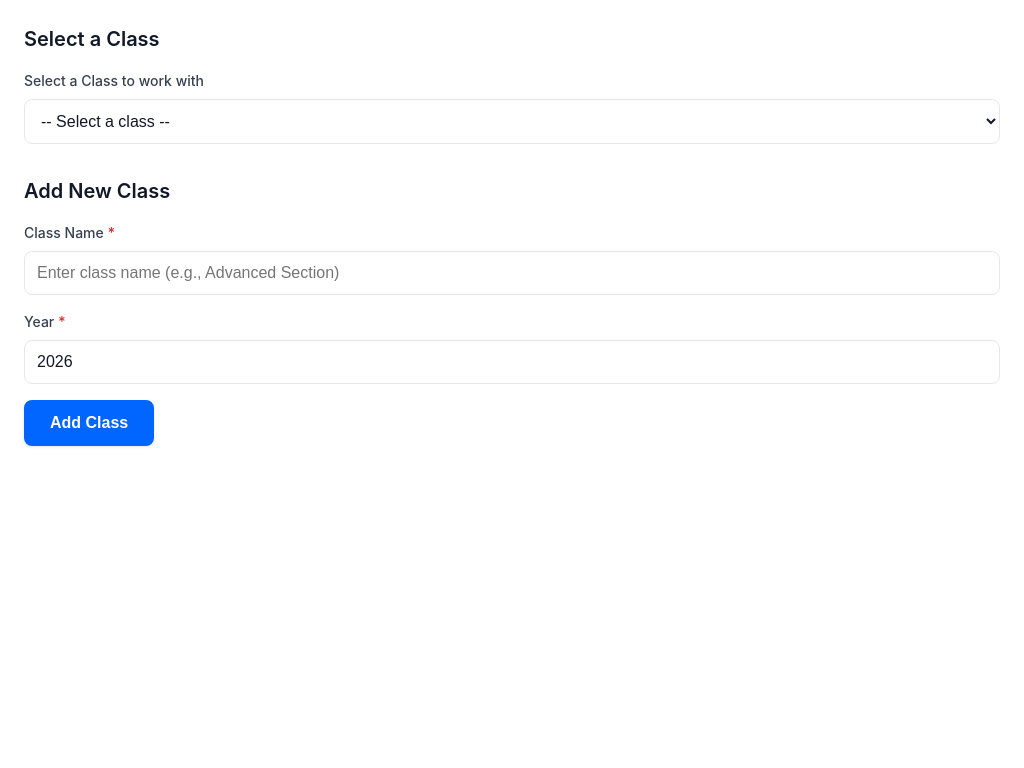
ClassManagementModal › Delete Class › should show cascading delete warning when class has final comments (AC5)
// Select a class
Select "Advanced Section (2024)" in the dropdown labelled "Select a Class to work with": (512, 122) [24,99,1000,144]
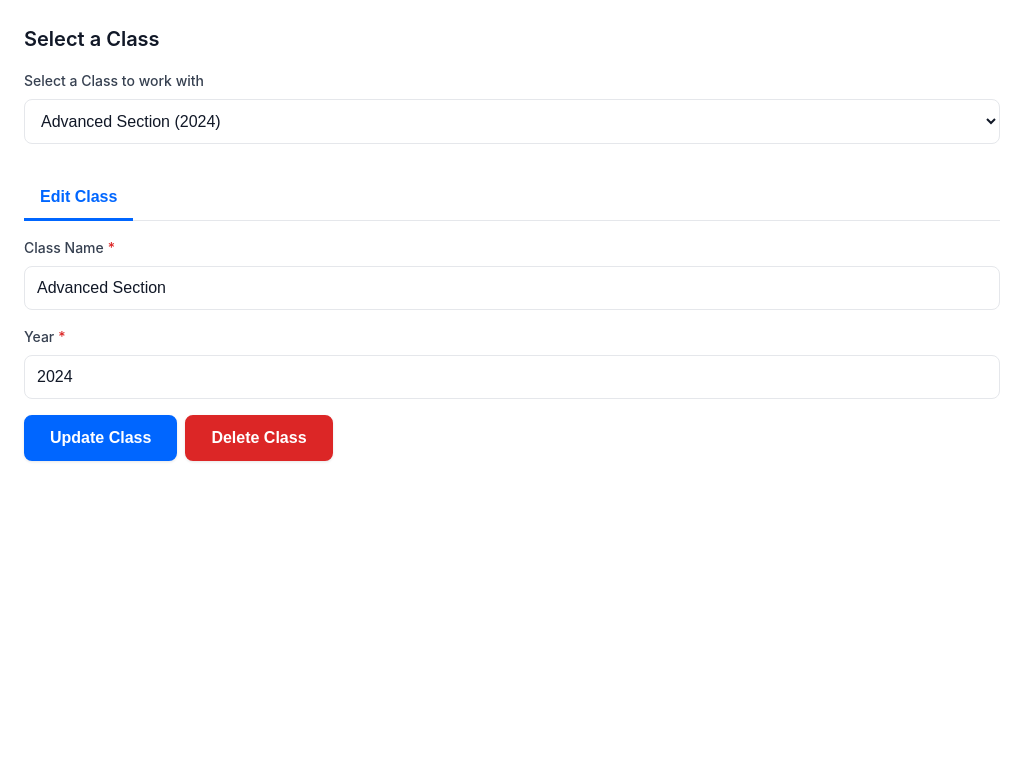
// Click delete button and wait for async check to complete
Click the button "Delete Class": (259, 438) [185,415,333,461]
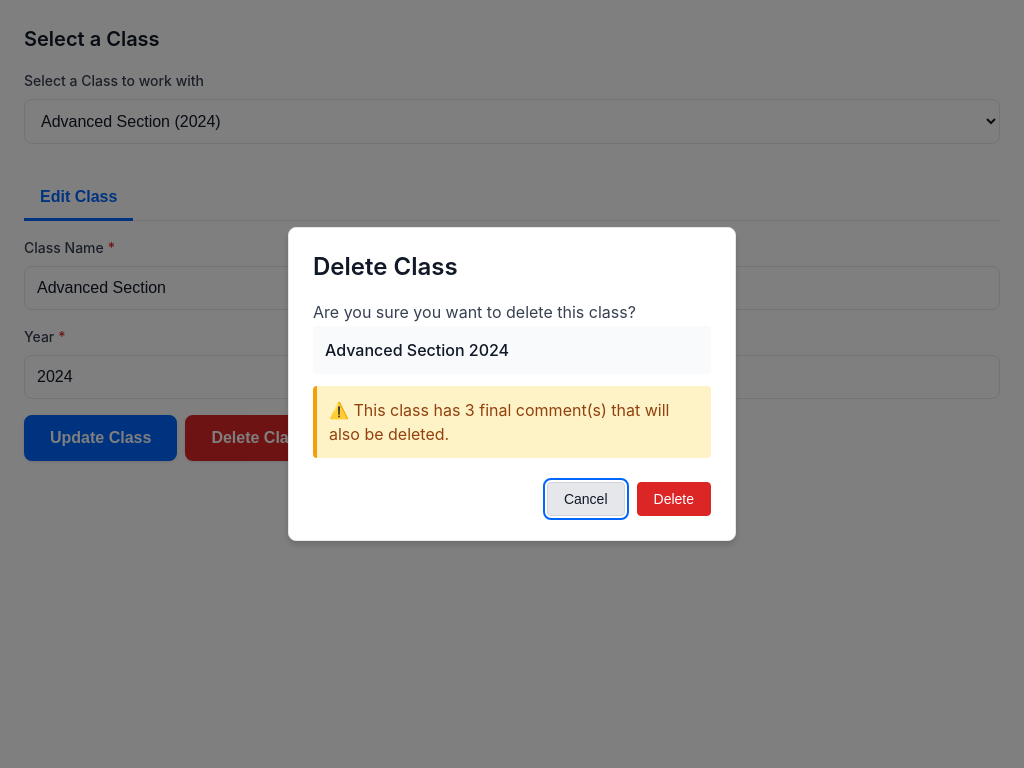
Check: the text "⚠️ This class has 3 final comment(s) that will also be deleted" is shown, box [329,398,699,446]
